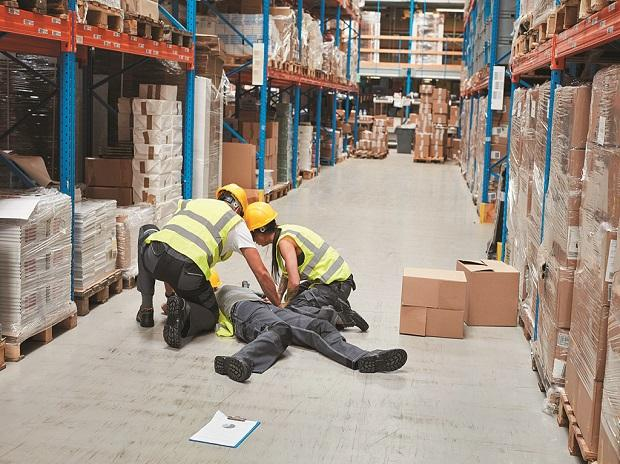fall: (115, 168, 420, 410), (206, 273, 416, 397)
